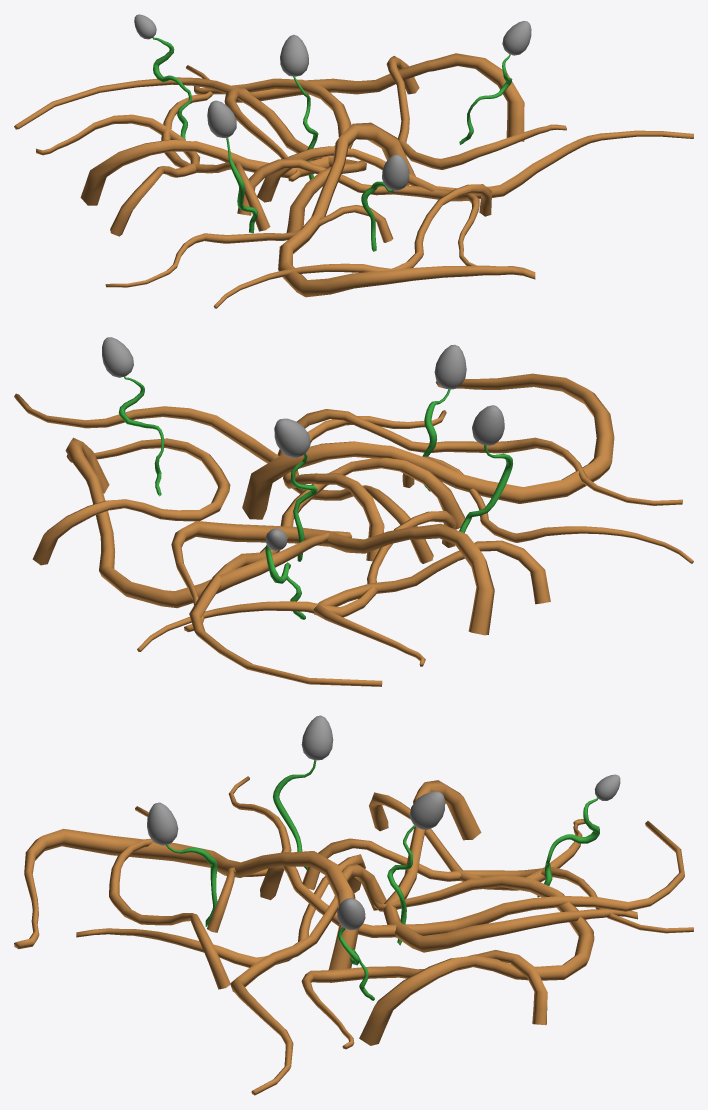
File: Spaceplant_Undergrowth_A.fbx
3 views of the same model, one above another, from view 1: azimuth 30°, elevation 25°; view 2: azimuth 150°, elevation 25°; view 3: azimuth 270°, elevation 25° (orthographic). The views are drawn at different scales.
Parts seen in each view (by area): view 1: Geom_Spaceplant_Undergrowth_A_LOD00; view 2: Geom_Spaceplant_Undergrowth_A_LOD00; view 3: Geom_Spaceplant_Undergrowth_A_LOD00.
Part boxes in pixels (box(x1,y1,x2,y2)): Geom_Spaceplant_Undergrowth_A_LOD00: box(14, 14, 693, 308); Geom_Spaceplant_Undergrowth_A_LOD00: box(14, 337, 693, 686); Geom_Spaceplant_Undergrowth_A_LOD00: box(14, 715, 693, 1095).
Bounding box in the file's own units: 1103 × 254 × 994.
